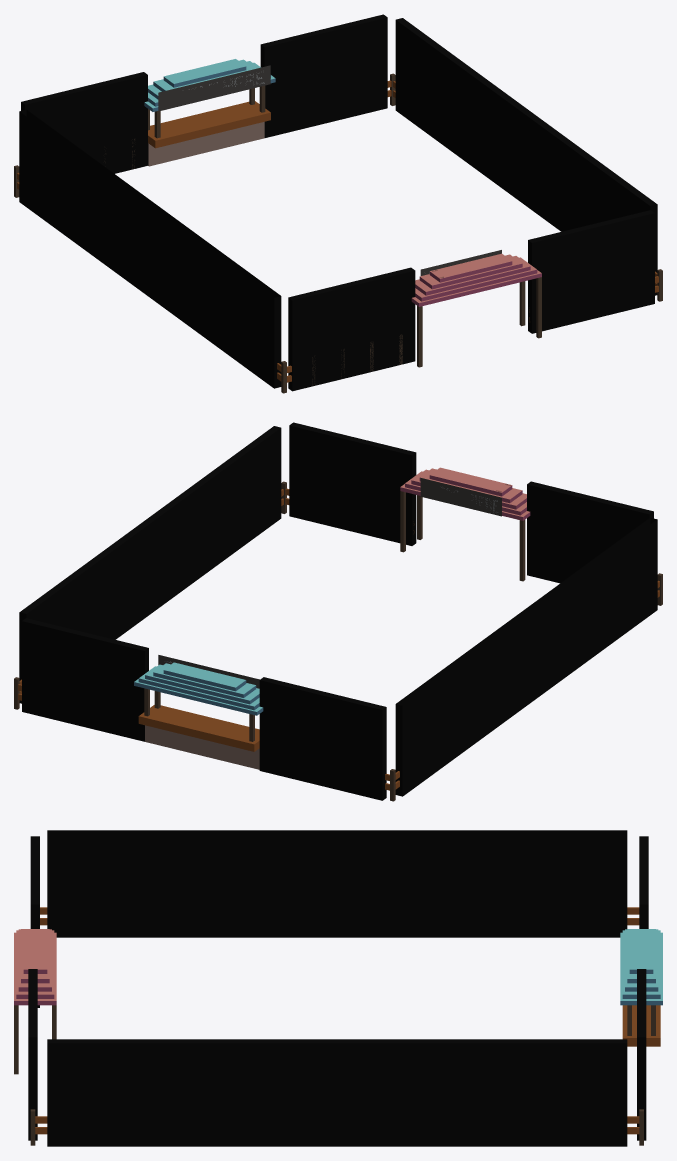
Rendered from Workspace.gltf.
3 views of the same model, one above another, from view 1: azimuth 30°, elevation 25°; view 2: azimuth 150°, elevation 25°; view 3: azimuth 270°, elevation 25° (orthographic). The views are drawn at different scales.
Visible parts, largest first — view 1: cube (×12), cuboid; view 2: cube (×12), cuboid (×2); view 3: cube (×11).
Part boxes in pixels (left/top/right/bottom): cube (×12): left=19, top=14, right=657, bottom=391; cuboid: left=158, top=65, right=270, bottom=111; cube (×12): left=19, top=422, right=657, bottom=800; cuboid (×2): left=158, top=478, right=501, bottom=688; cube (×11): left=18, top=830, right=660, bottom=1146.
Bounding box in the file's own units: 13.25 × 3 × 17.06.
8 materials, 7 textured.
